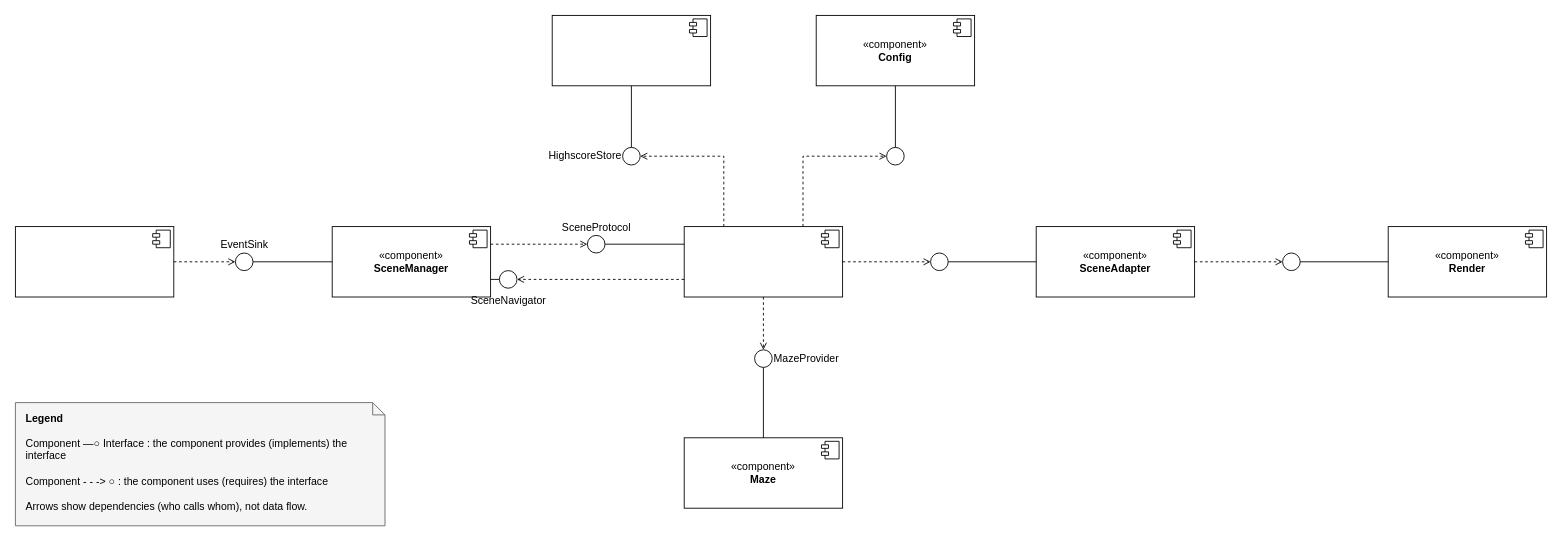
This 1562x541 diagram has some shape labels left out. Each missing label, with the box of its shape:
GameConfig: (886, 147, 904, 165)
Renderer: (1282, 252, 1300, 271)
ScenePresenter: (930, 252, 948, 271)
«component» Engine: (15, 226, 174, 297)
«component» Scene: (683, 226, 843, 297)
«component» Scores: (551, 15, 711, 86)
